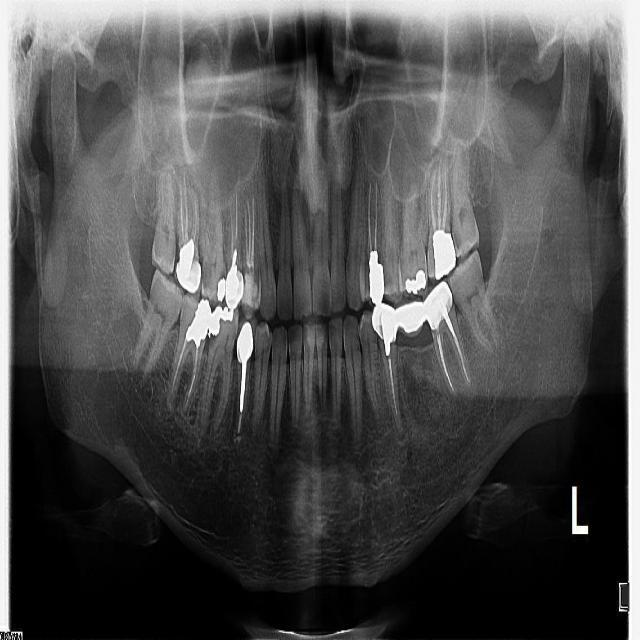71: (426, 288, 455, 341), (237, 332, 251, 411), (230, 248, 237, 276)
74: (433, 325, 454, 391), (168, 337, 189, 397), (184, 347, 201, 410), (453, 336, 470, 382), (440, 163, 451, 230), (364, 183, 373, 258), (249, 197, 258, 266), (244, 200, 252, 270), (388, 359, 397, 418), (431, 163, 438, 233), (178, 187, 186, 246), (183, 170, 189, 244), (437, 160, 443, 229), (229, 204, 234, 261), (374, 178, 378, 249), (193, 195, 197, 243), (237, 409, 243, 436), (235, 192, 238, 241)
NucleOSS Implant: (181, 298, 219, 353), (431, 229, 458, 280), (207, 303, 235, 339), (176, 236, 198, 278), (401, 269, 430, 297), (369, 251, 383, 307), (381, 312, 396, 356), (216, 276, 226, 302)
Sterngold Implant: (201, 259, 213, 294), (452, 228, 463, 250), (168, 239, 175, 263), (218, 264, 227, 280), (209, 335, 216, 350)
Straumann Implant: (241, 269, 258, 318)
Zimmer Implant: (420, 278, 456, 328), (368, 301, 401, 347), (231, 313, 258, 363), (394, 295, 426, 337), (173, 259, 202, 298), (225, 272, 244, 311)
